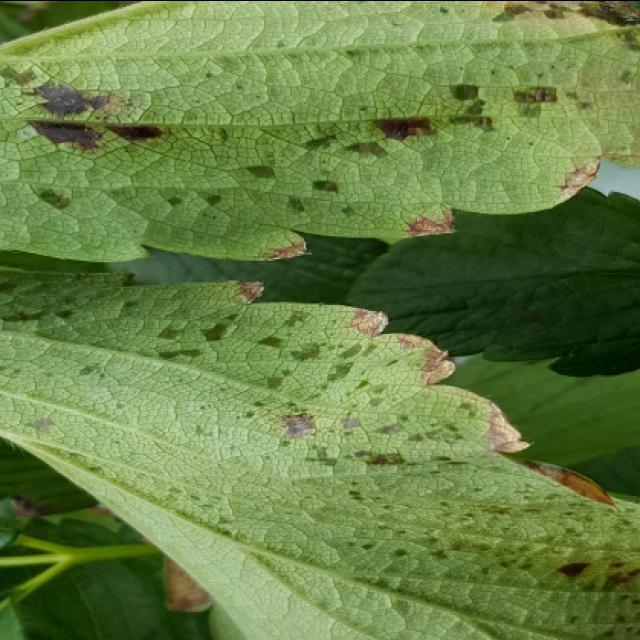Angular Leafspot: (0, 259, 638, 638), (0, 0, 638, 264)
